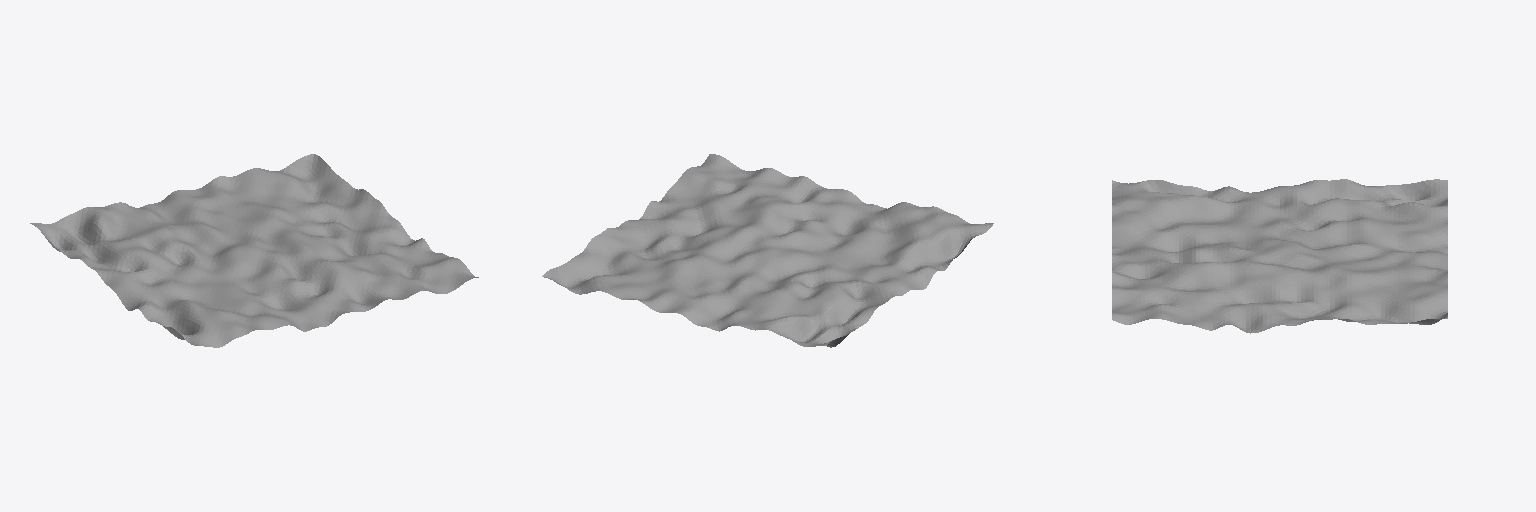
Rendered from ground.obj.
3 views of the same model, side by side, from view 1: azimuth 30°, elevation 25°; view 2: azimuth 150°, elevation 25°; view 3: azimuth 270°, elevation 25° (orthographic).
Visible parts, largest first — view 1: Plane01; view 2: Plane01; view 3: Plane01.
Part boxes in pixels (left/top/right/bottom): Plane01: left=30, top=154, right=478, bottom=347; Plane01: left=542, top=154, right=993, bottom=347; Plane01: left=1112, top=179, right=1447, bottom=333.
Size of the model in its own units: 22.49 by 1.65 by 23.